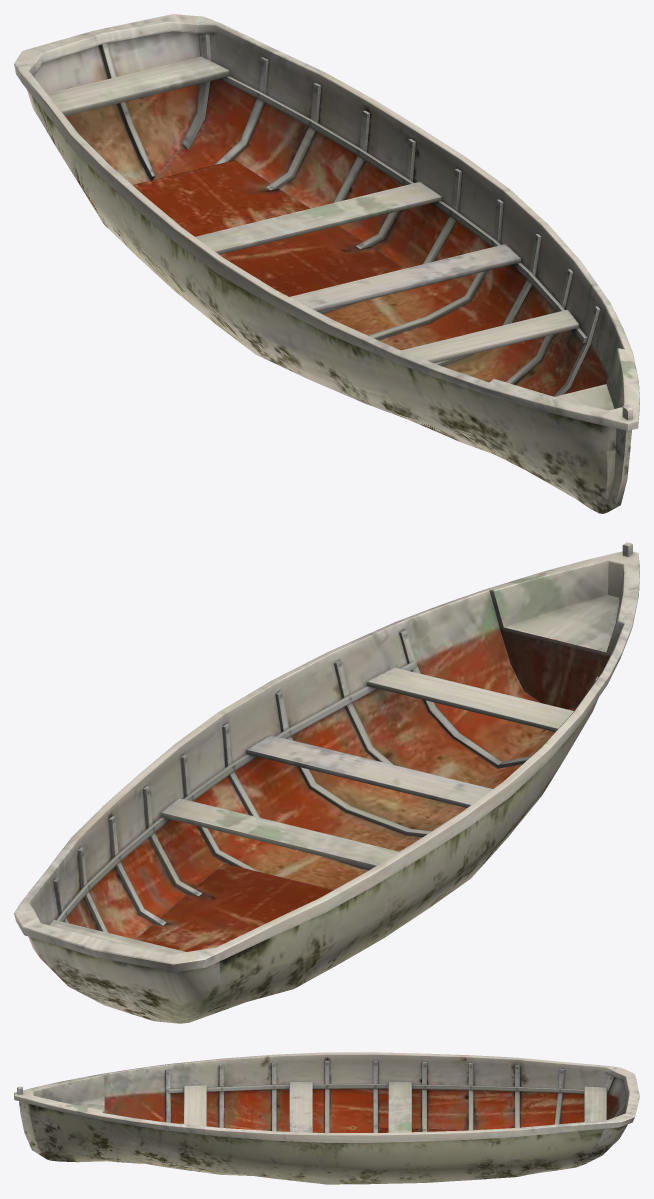
The model's file is riverboat.glb.
3 views of the same model, one above another, from view 1: azimuth 30°, elevation 25°; view 2: azimuth 150°, elevation 25°; view 3: azimuth 270°, elevation 25° (orthographic). The views are drawn at different scales.
Visible parts, largest first — view 1: Object_2; view 2: Object_2; view 3: Object_2.
Part boxes in pixels (x1,y1,x2,y2): Object_2: (14, 14, 639, 513); Object_2: (14, 542, 639, 1023); Object_2: (14, 1052, 639, 1184).
Bounding box in the file's own units: 106 × 46.01 × 339.
1 material, 1 textured.
